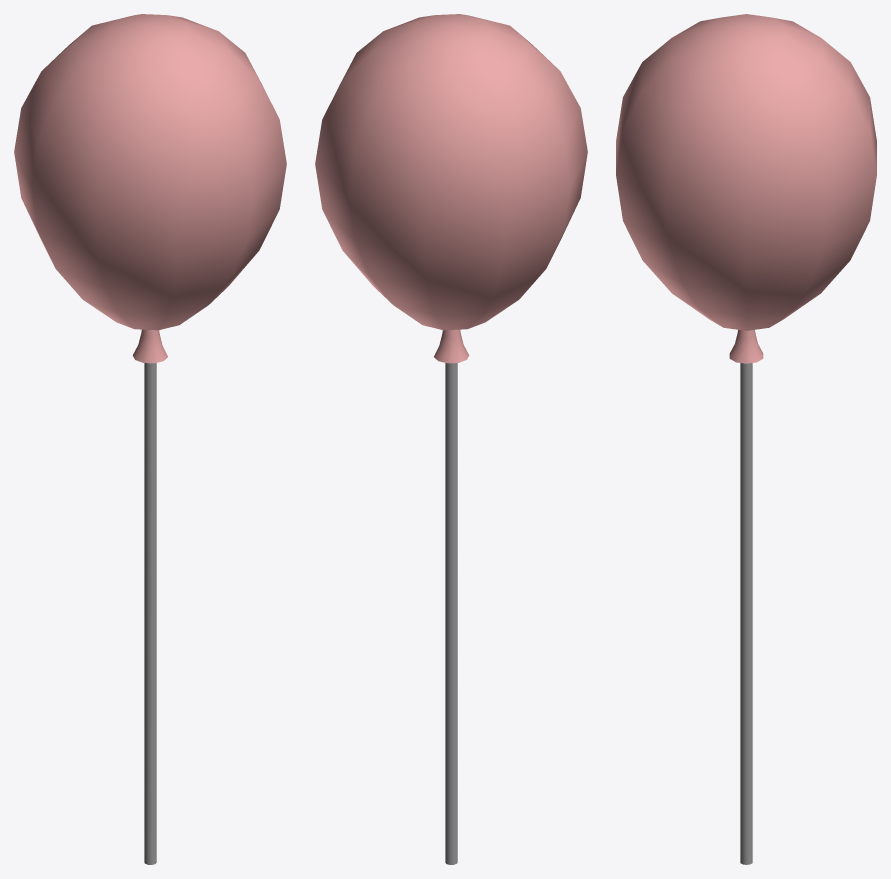
File: pr_ballon.fbx
3 views of the same model, side by side, from view 1: azimuth 30°, elevation 25°; view 2: azimuth 150°, elevation 25°; view 3: azimuth 270°, elevation 25° (orthographic).
Visible parts, largest first — view 1: pSphere1, pCylinder2, pCylinder1; view 2: pSphere1, pCylinder2, pCylinder1; view 3: pSphere1, pCylinder2, pCylinder1.
Part boxes in pixels (x1,y1,x2,y2): pSphere1: [14, 14, 286, 330]; pCylinder2: [144, 363, 156, 864]; pCylinder1: [132, 329, 167, 363]; pSphere1: [315, 14, 587, 330]; pCylinder2: [445, 363, 457, 864]; pCylinder1: [434, 329, 469, 363]; pSphere1: [616, 14, 876, 330]; pCylinder2: [740, 363, 752, 864]; pCylinder1: [729, 330, 763, 363].
Size of the model in its own units: 39.07 by 131 by 37.16.
